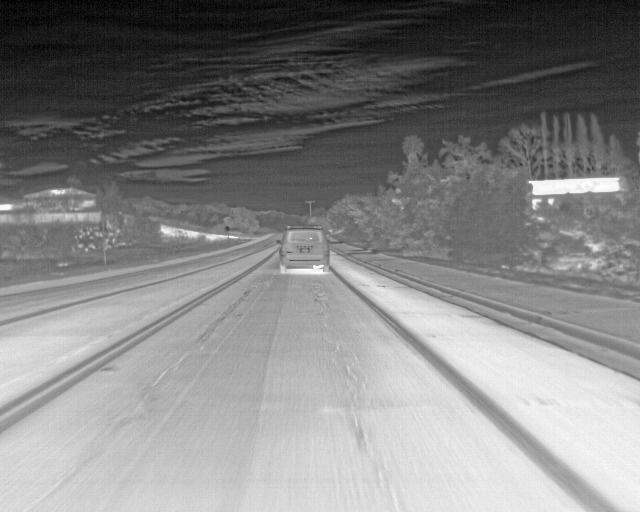car: (277, 224, 330, 274)
